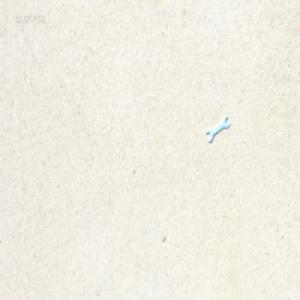Wrench: (205, 116, 229, 143)
